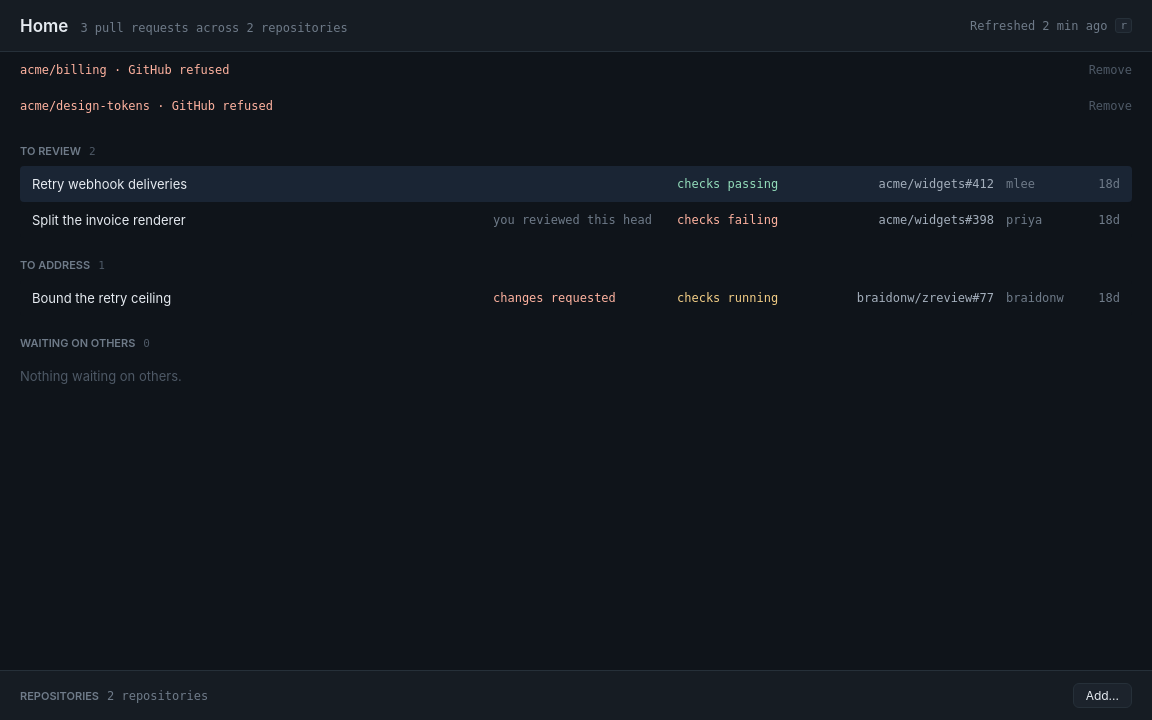
Test case: Home › removes the repository the failed line's Remove names
This screenshot has width=1152, height=720.
Expected: the text "acme/billing · GitHub refused" is shown, [20, 63, 230, 77]
Click the button "Remove" in the row of "acme/billing · GitHub refused". click: x=1110, y=70
box: [1089, 63, 1132, 77]
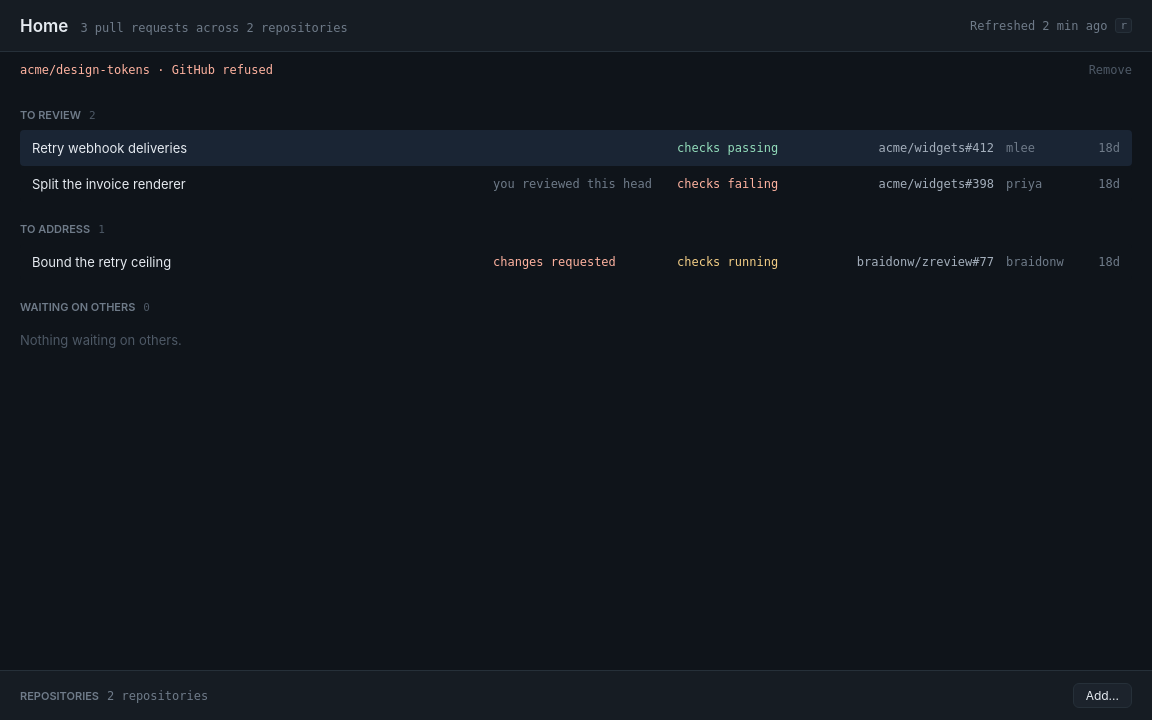
Expected: the text "acme/design-tokens · GitHub refused" is shown, [20, 63, 273, 77]
Expected: the text "acme/billing" is gone
